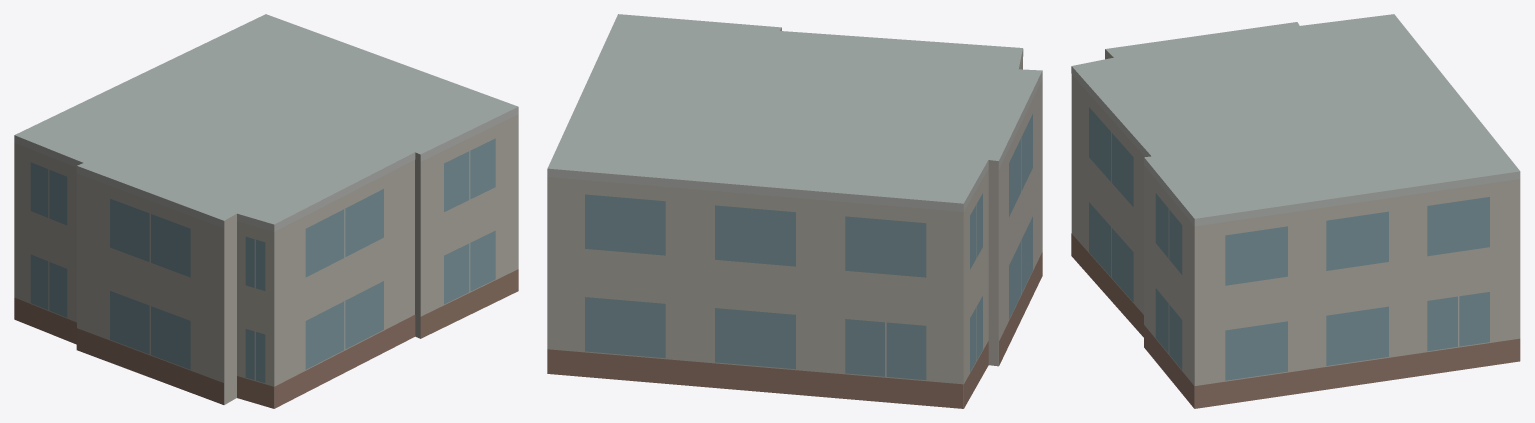
File: survey-upis-32523308.glb
The picture shows the model from 3 angles, left to right: view 1: azimuth 30°, elevation 25°; view 2: azimuth 150°, elevation 25°; view 3: azimuth 270°, elevation 25°; orthographic projection. The views are drawn at different scales.
Visible parts, largest first — view 1: survey-upis-32523308.tmp; view 2: survey-upis-32523308.tmp; view 3: survey-upis-32523308.tmp.
Part boxes in pixels (<box>): survey-upis-32523308.tmp: <box>14,14,518,408</box>; survey-upis-32523308.tmp: <box>547,14,1042,408</box>; survey-upis-32523308.tmp: <box>1071,14,1520,408</box>.
Size of the model in its own units: 14.12 by 6.1 by 13.07.
